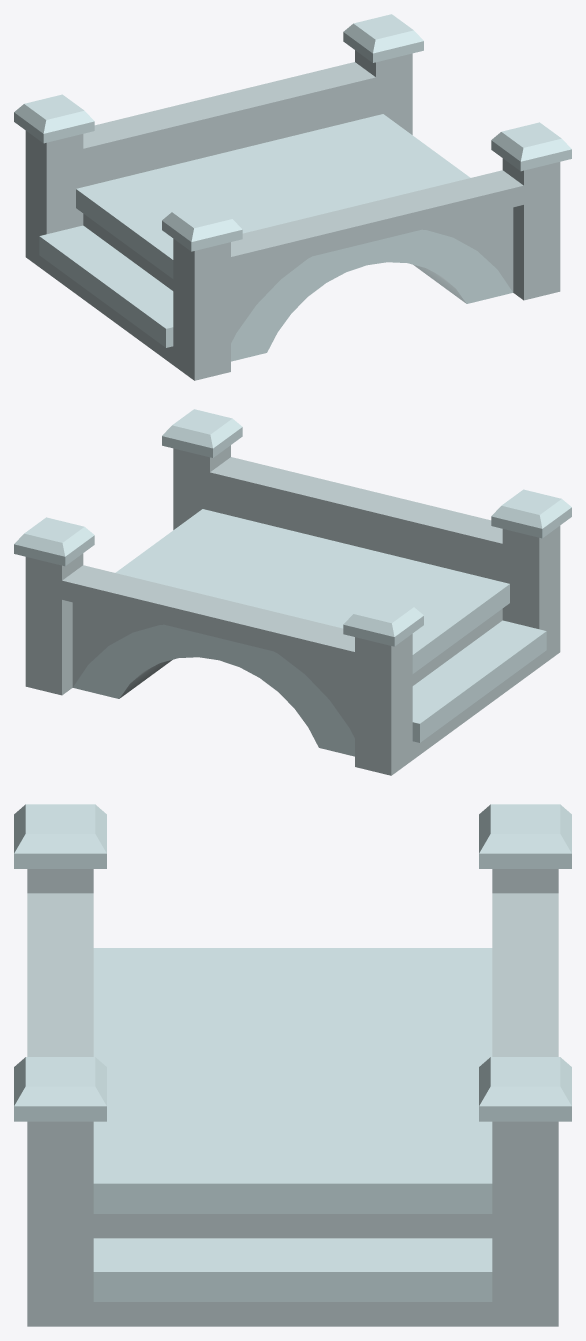
3 renders of one model, top to bottom at view 1: azimuth 30°, elevation 25°; view 2: azimuth 150°, elevation 25°; view 3: azimuth 270°, elevation 25°, orthographic. The views are drawn at different scales.
Visible parts, largest first — view 1: bridge_stoneRoundNarrow; view 2: bridge_stoneRoundNarrow; view 3: bridge_stoneRoundNarrow.
Part boxes in pixels (<box>): bridge_stoneRoundNarrow: <box>14,14,571,380</box>; bridge_stoneRoundNarrow: <box>14,409,571,775</box>; bridge_stoneRoundNarrow: <box>14,804,571,1326</box>.
Bounding box in the file's own units: 1.04 × 0.4 × 0.84.
